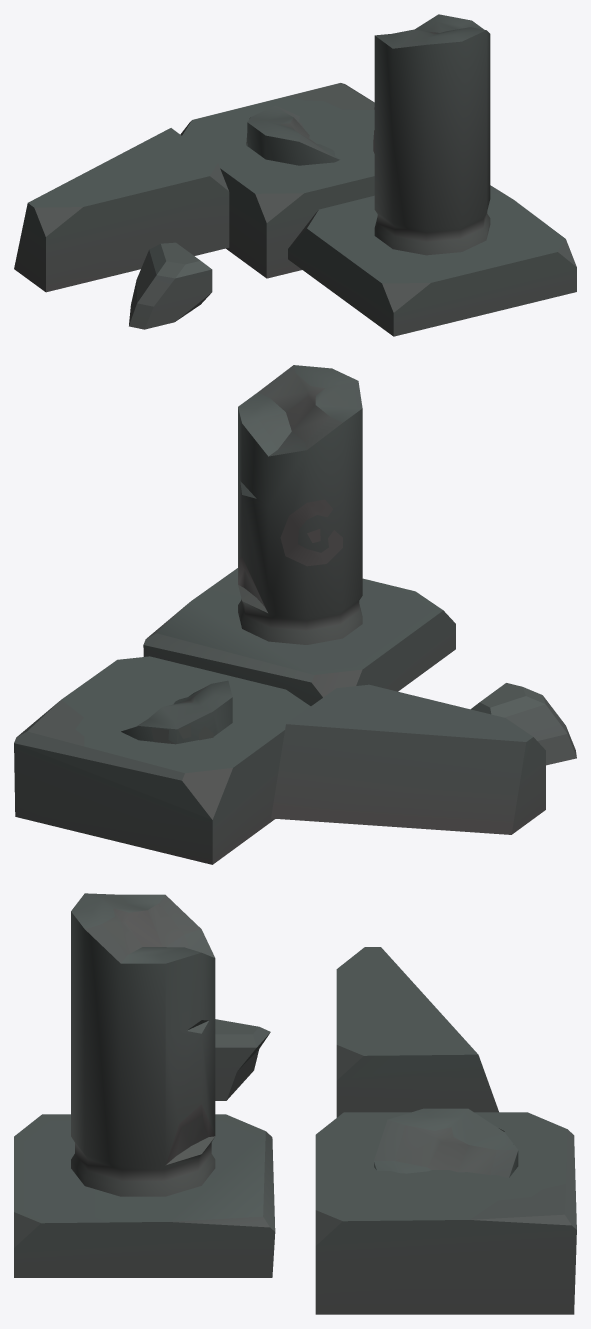
The model's file is Object_Stage_05.fbx.
3 views of the same model, one above another, from view 1: azimuth 30°, elevation 25°; view 2: azimuth 150°, elevation 25°; view 3: azimuth 270°, elevation 25° (orthographic). The views are drawn at different scales.
Visible parts, largest first — view 1: Pillar_S5, Pillar_S5.003, Pillar_S5.002, Pillar_S5.004, Pillar_S5.001; view 2: Pillar_S5, Pillar_S5.002, Pillar_S5.003, Pillar_S5.001, Pillar_S5.004; view 3: Pillar_S5, Pillar_S5.002, Pillar_S5.003, Pillar_S5.001, Pillar_S5.004.
Part boxes in pixels (box(x1,y1,x2,y2)): Pillar_S5: box(288, 14, 576, 336); Pillar_S5.003: box(14, 128, 229, 292); Pillar_S5.002: box(180, 83, 374, 278); Pillar_S5.004: box(129, 242, 212, 329); Pillar_S5.001: box(246, 105, 339, 165); Pillar_S5: box(143, 365, 455, 705); Pillar_S5.002: box(14, 656, 310, 864); Pillar_S5.003: box(271, 684, 545, 834); Pillar_S5.001: box(121, 680, 232, 744); Pillar_S5.004: box(471, 683, 576, 765); Pillar_S5: box(14, 893, 275, 1277); Pillar_S5.002: box(315, 1112, 576, 1314); Pillar_S5.003: box(336, 947, 498, 1117); Pillar_S5.001: box(374, 1108, 518, 1178); Pillar_S5.004: box(215, 1019, 270, 1100).
Bounding box in the file's own units: 7.79 × 5.73 × 7.79.
